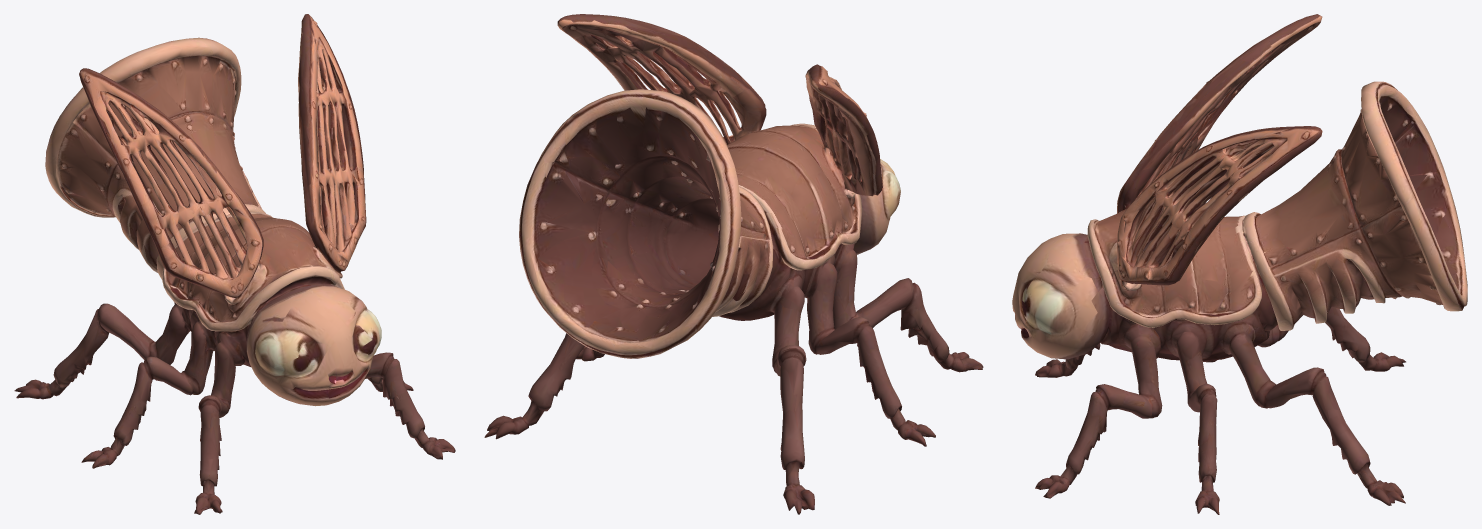
3 views of the same model, side by side, from view 1: azimuth 30°, elevation 25°; view 2: azimuth 150°, elevation 25°; view 3: azimuth 270°, elevation 25° (orthographic). The views are drawn at different scales.
Parts seen in each view (by area): view 1: Mesh_0; view 2: Mesh_0; view 3: Mesh_0.
Boxes of the visible parts, x1,y1,x2,y2 form: Mesh_0: (14, 14, 455, 514); Mesh_0: (484, 14, 983, 514); Mesh_0: (1012, 14, 1467, 514).
Size of the model in its own units: 1.62 by 1.67 by 1.9.
Materials: 1 (1 with a texture image).
